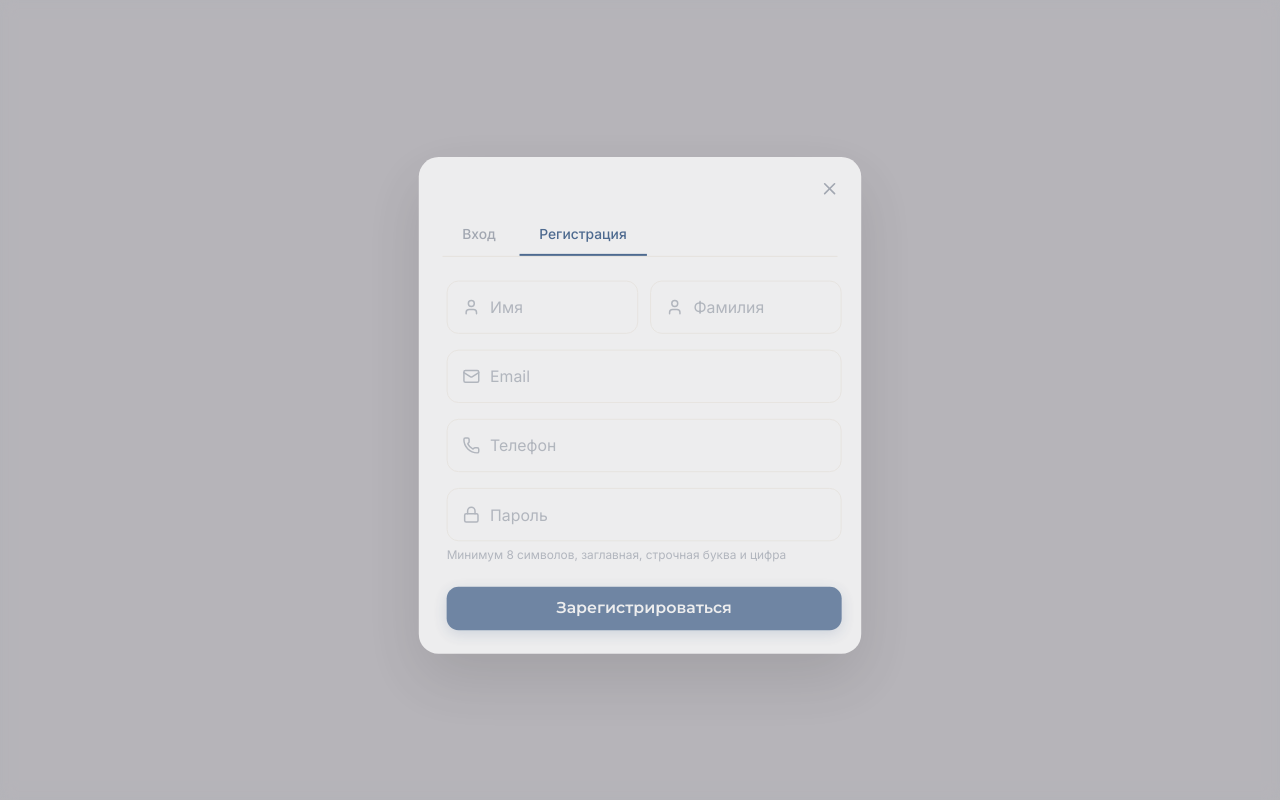
Test: AuthModal unavailable auth service › keeps email and name and clears the password when register returns 502
Type "Анна" into the field labelled "Имя" at (542, 307), box [447,280,638,333]
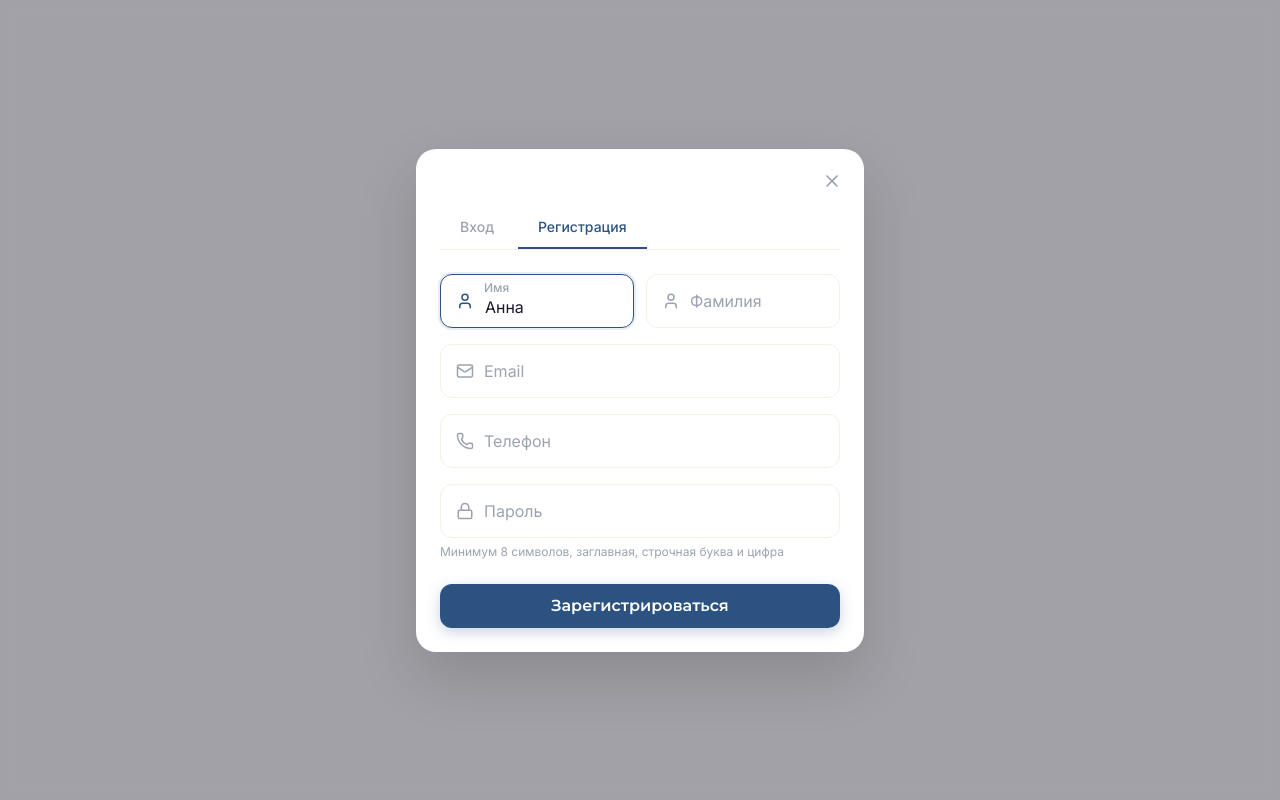
Type "Смирнова" into the field labelled "Фамилия" at (743, 300), box [646,274,840,328]
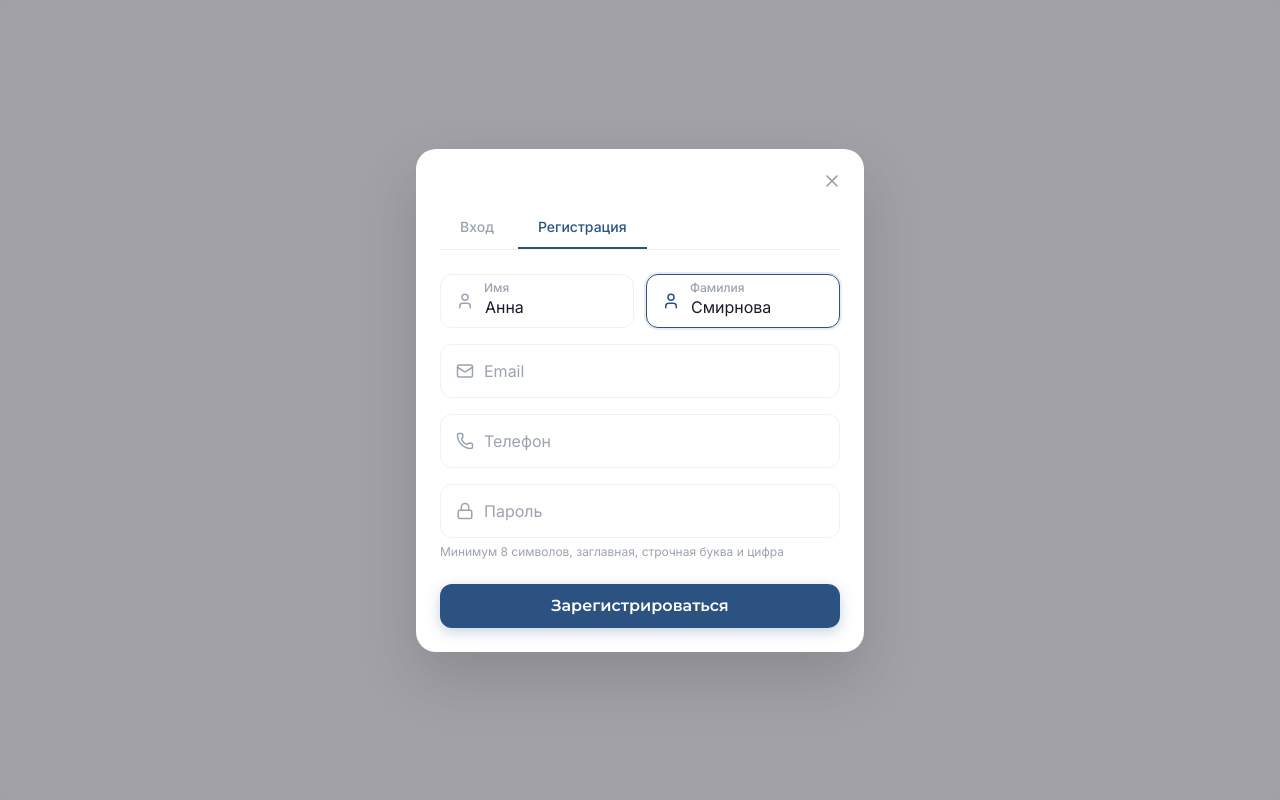
Type "anna@example.com" into the field labelled "Email" at (640, 370), box [440,344,840,398]
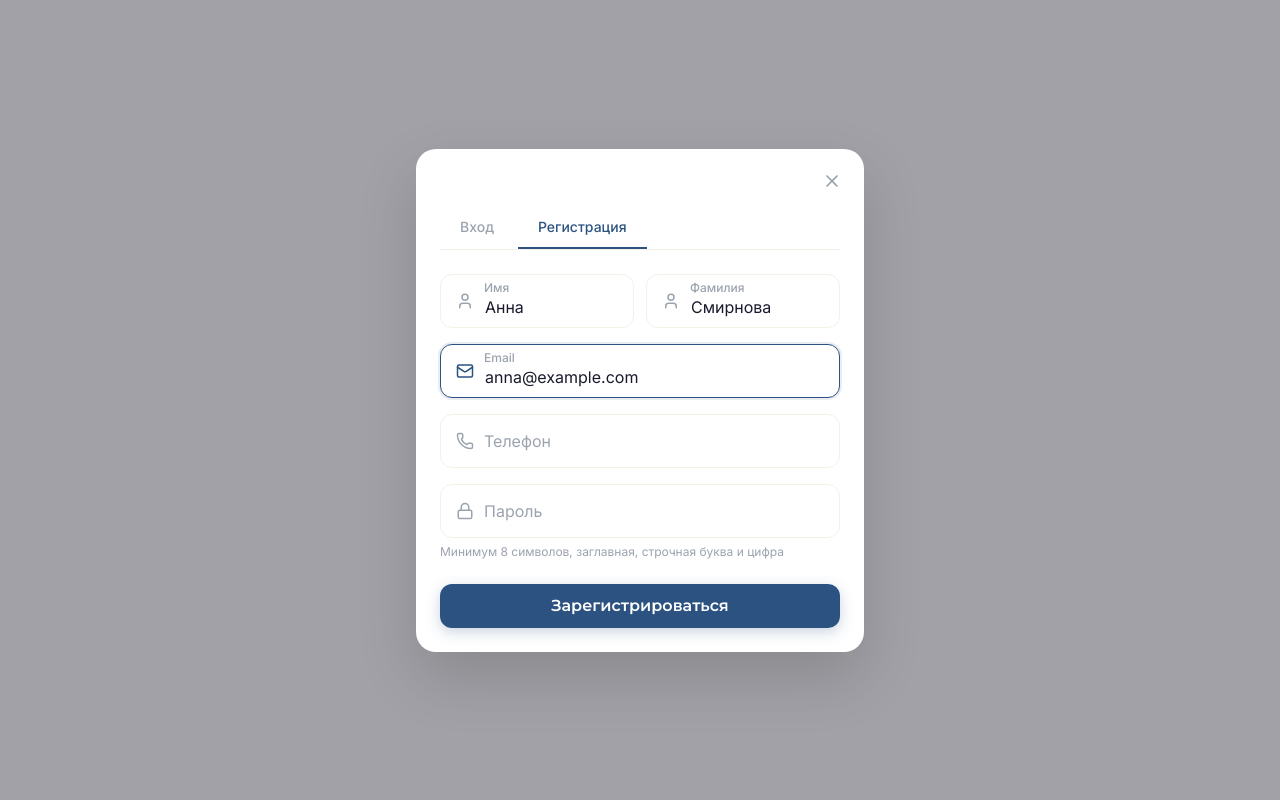
Type "+79990001122" into the field labelled "Телефон" at (640, 440), box [440,414,840,468]
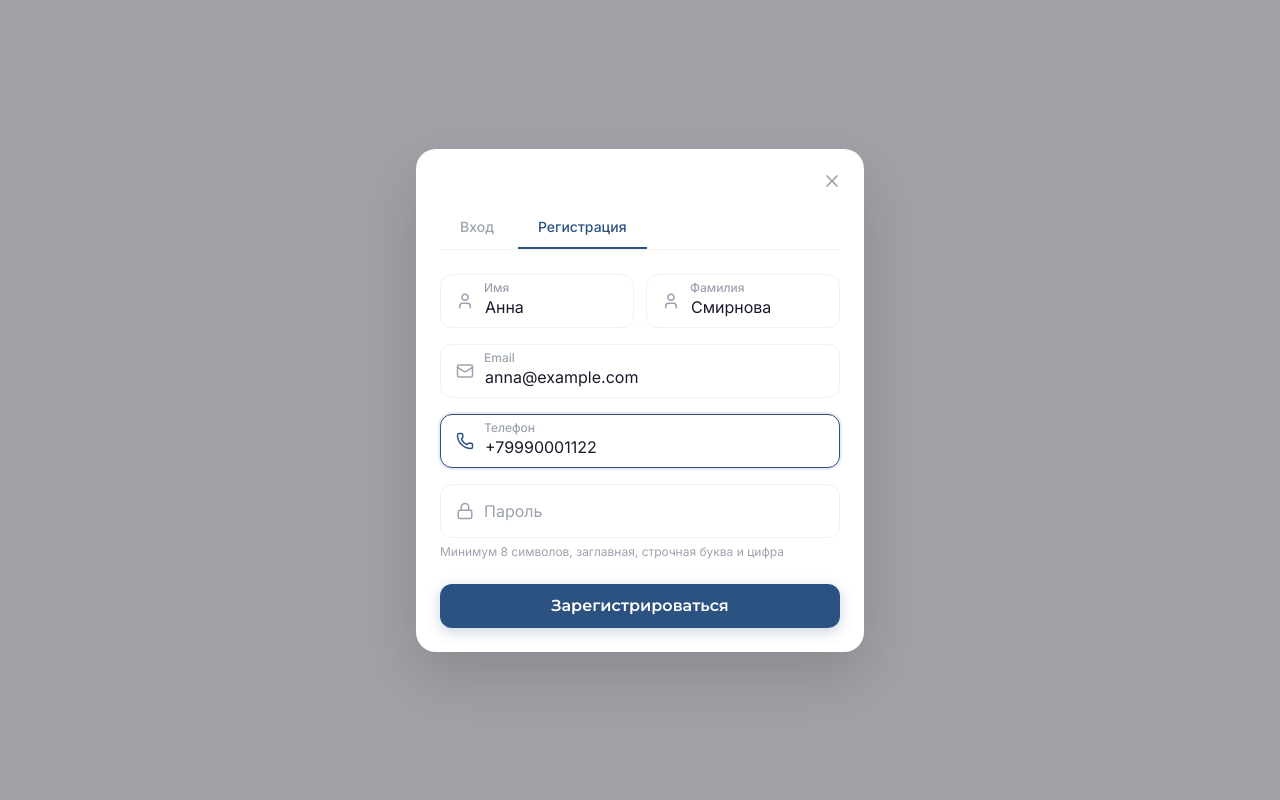
Type "Password1" into the password field labelled "Пароль" at (640, 510), box [440,484,840,538]
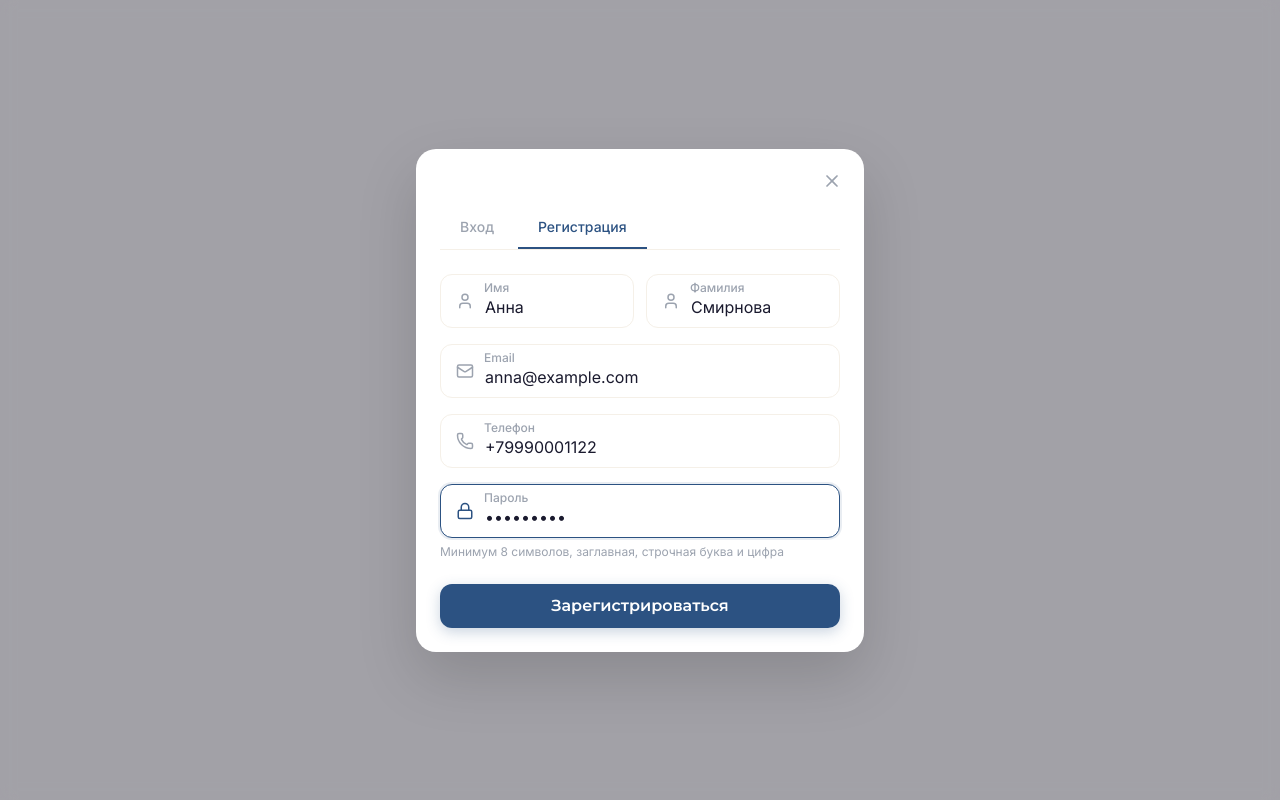
Click the button "Зарегистрироваться" at (640, 606), box [440,584,840,628]
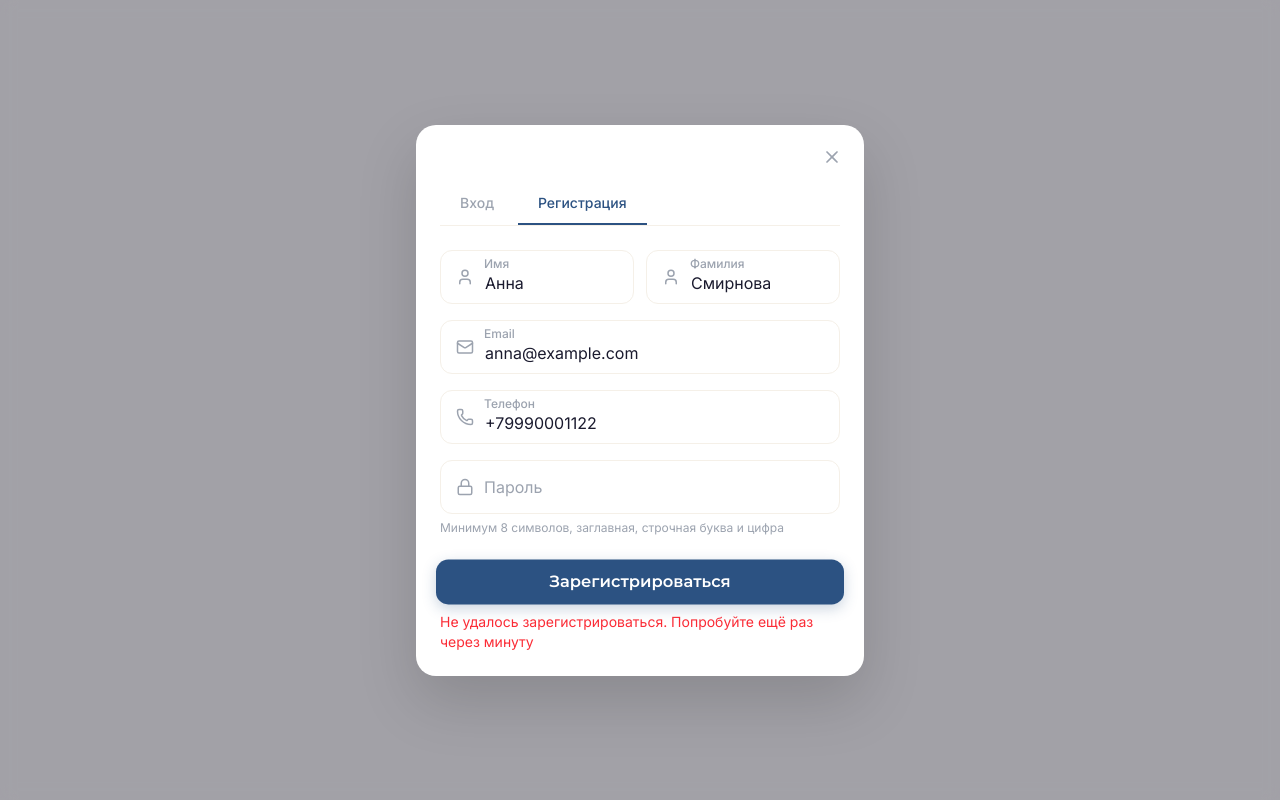
expect the message reads "Не удалось зарегистрироваться. Попробуйте ещё раз через минуту": met, box [440,612,813,650]
expect the password field labelled "Пароль" is empty: met, box [440,460,840,514]
